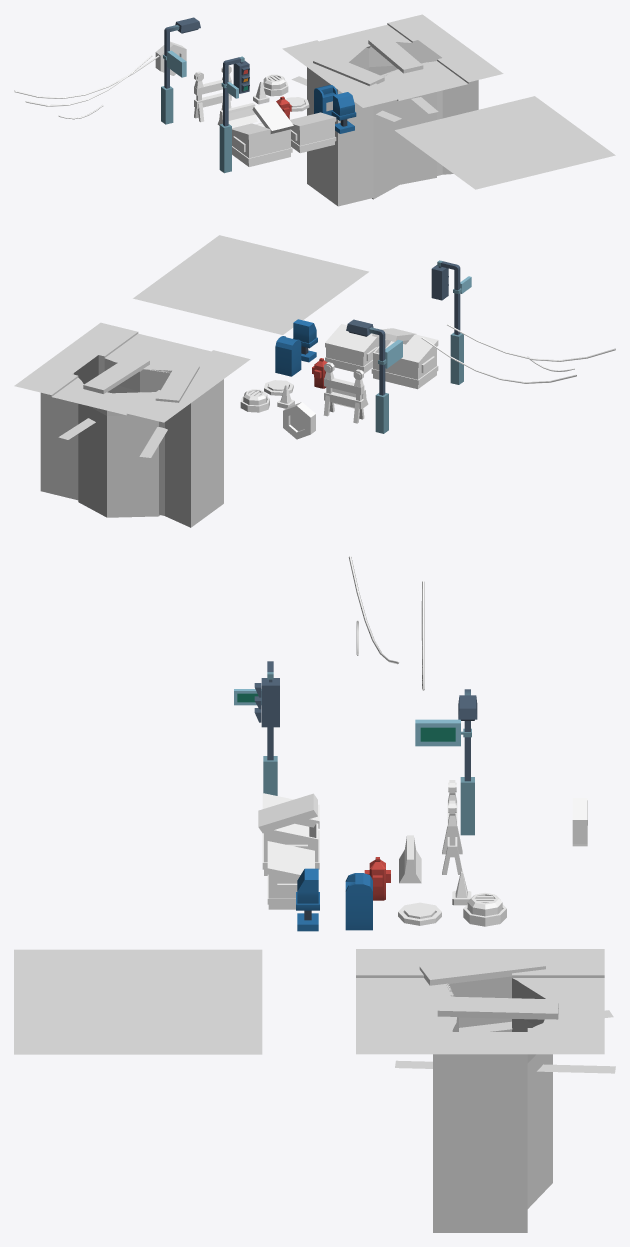
The model's file is road_props.fbx.
The picture shows the model from 3 angles, top to bottom: view 1: azimuth 30°, elevation 25°; view 2: azimuth 150°, elevation 25°; view 3: azimuth 270°, elevation 25°; orthographic projection. The views are drawn at different scales.
Parts seen in each view (by area): view 1: road_broken, road_solid, Dumpster_2, street_light_1, street_light_2, Dumpster_1, road_props_2, road_props_8, road_props_1, road_props_7, road_props_6, coin. (+2 smaller); view 2: road_broken, road_solid, Dumpster_2, street_light_1, Dumpster_1, street_light_2, road_props_2, road_props_7, coin., road_props_8, road_props_6, cable_2; view 3: road_broken, road_solid, Dumpster_2, street_light_2, street_light_1, Dumpster_1, road_props_7, road_props_8, road_props_6, road_props_2.
Boxes of the visible parts, left/top/right/bottom form: road_broken: left=282, top=14, right=503, bottom=206; road_solid: left=395, top=96, right=615, bottom=189; Dumpster_2: left=232, top=101, right=293, bottom=166; street_light_1: left=219, top=56, right=249, bottom=173; street_light_2: left=161, top=17, right=200, bottom=124; Dumpster_1: left=290, top=112, right=336, bottom=153; road_props_2: left=194, top=65, right=231, bottom=122; road_props_8: left=331, top=92, right=356, bottom=133; road_props_1: left=217, top=103, right=257, bottom=127; road_props_7: left=314, top=85, right=337, bottom=119; road_props_6: left=262, top=74, right=288, bottom=96; coin.: left=155, top=41, right=186, bottom=75; road_broken: left=14, top=322, right=250, bottom=527; road_solid: left=133, top=235, right=368, bottom=334; Dumpster_2: left=371, top=328, right=438, bottom=389; street_light_1: left=431, top=260, right=471, bottom=384; Dumpster_1: left=325, top=324, right=379, bottom=373; street_light_2: left=346, top=319, right=402, bottom=433; road_props_2: left=323, top=362, right=364, bottom=423; road_props_7: left=275, top=336, right=301, bottom=376; coin.: left=283, top=402, right=315, bottom=439; road_props_8: left=293, top=319, right=317, bottom=362; road_props_6: left=240, top=389, right=269, bottom=412; cable_2: left=447, top=324, right=615, bottom=361; road_broken: left=356, top=949, right=615, bottom=1232; road_solid: left=14, top=949, right=262, bottom=1054; Dumpster_2: left=258, top=793, right=319, bottom=875; street_light_2: left=415, top=689, right=477, bottom=835; street_light_1: left=234, top=661, right=279, bottom=795; Dumpster_1: left=267, top=841, right=314, bottom=909; road_props_7: left=345, top=873, right=372, bottom=930; road_props_8: left=296, top=868, right=319, bottom=931; road_props_6: left=463, top=892, right=506, bottom=926; road_props_2: left=442, top=780, right=462, bottom=874.
Bounding box in the file's own units: 1369 × 614 × 969.
